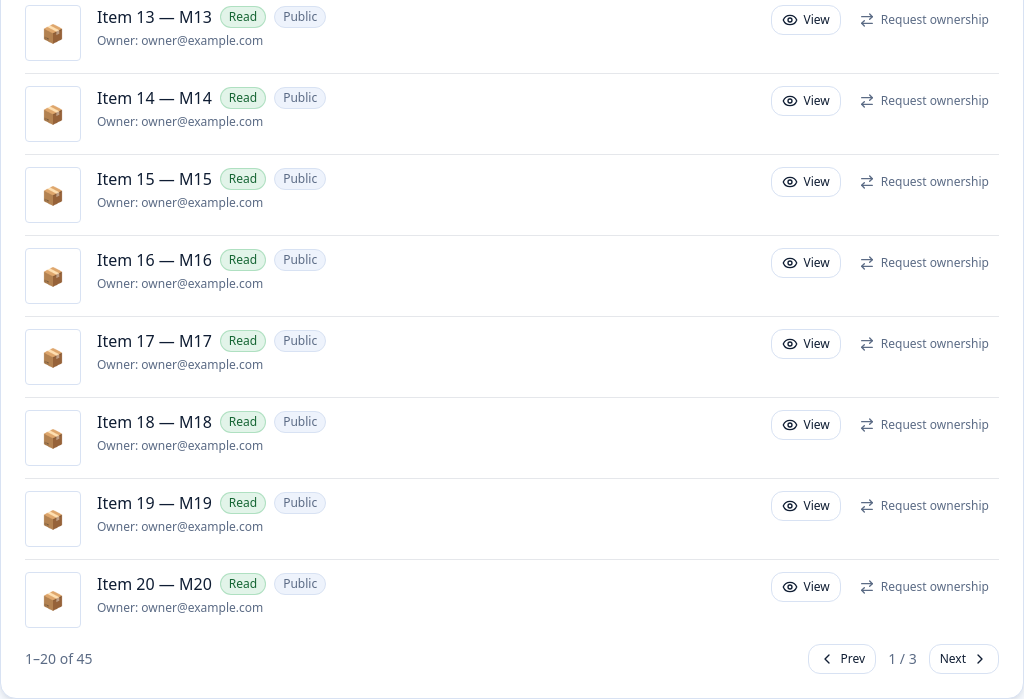
Test: <SharedArticlesView /> › shows twenty rows at a time, with prev/next
(page scrolled)
Click the button "Next". click: click(964, 659)
box: [929, 644, 999, 674]
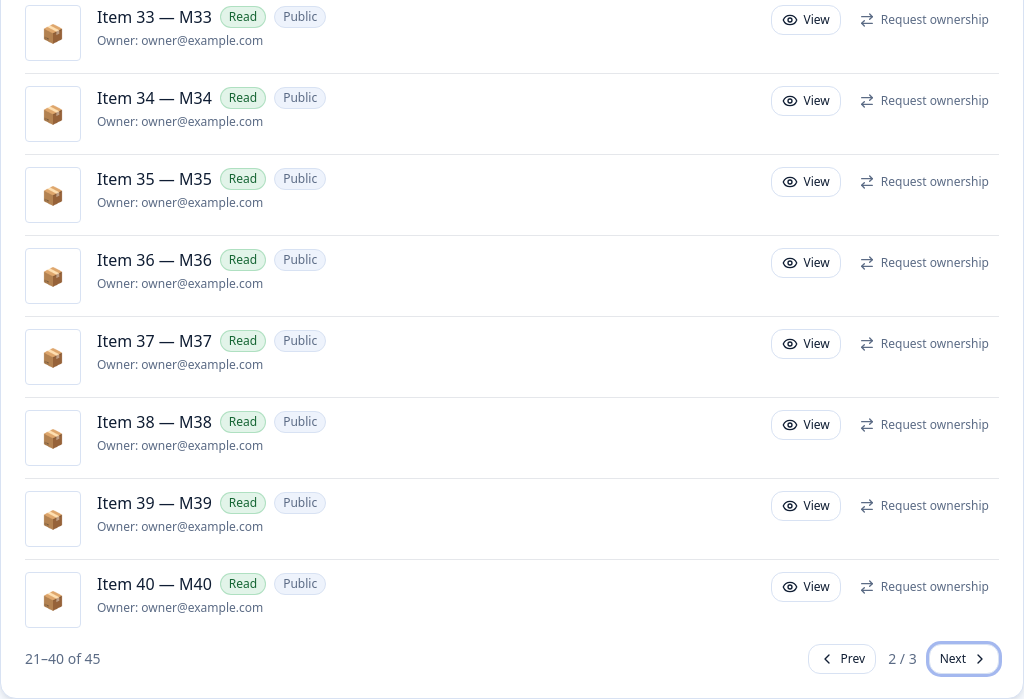
Click the button "Next". click: click(964, 659)
box: [929, 644, 999, 674]
(page scrolled)
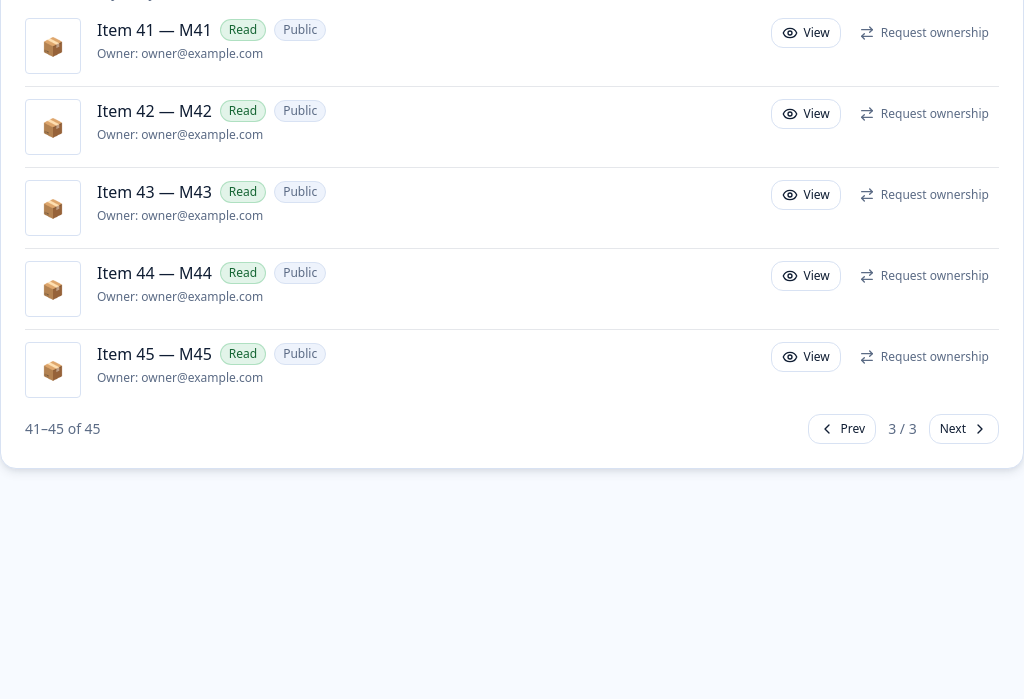
Expected: the text with class "ui-title" reads "Item 45 — M45", [97, 342, 212, 366]
Expected: the text "41–45 of 45" is shown, [25, 419, 101, 439]
